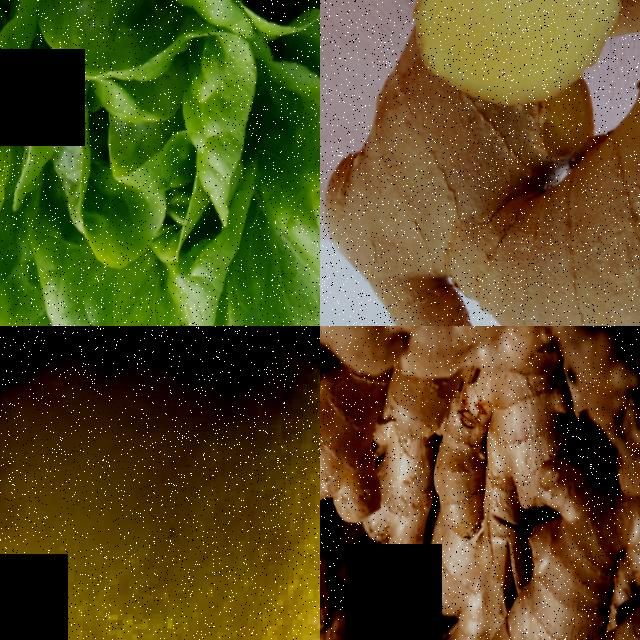ginger: (320, 0, 640, 326), (506, 467, 640, 640), (320, 326, 390, 640)
lemon: (0, 326, 320, 640)
lettuce: (0, 0, 320, 326)
